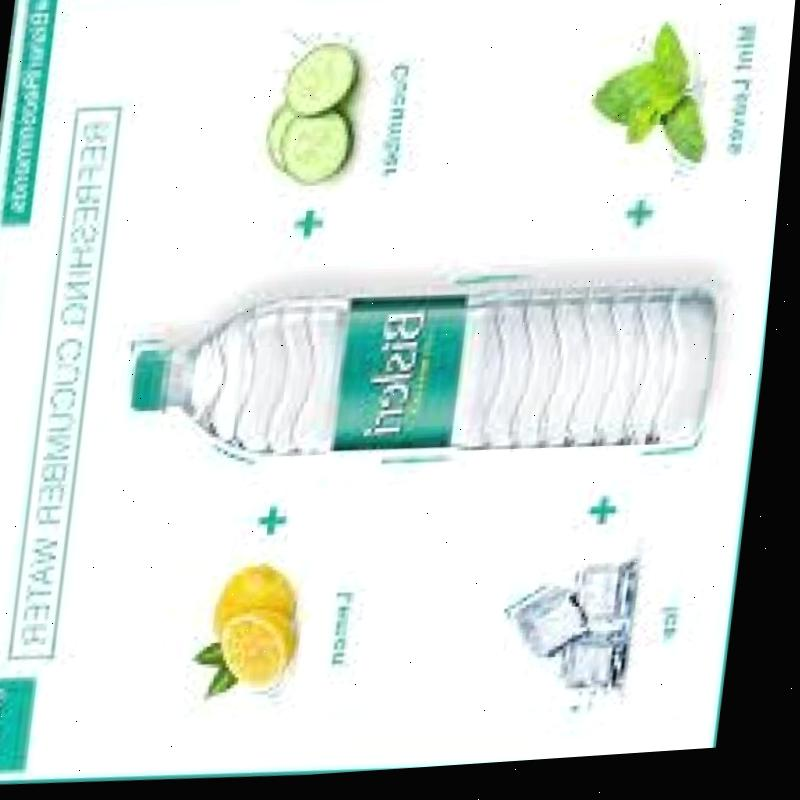botella: (127, 271, 730, 493)
